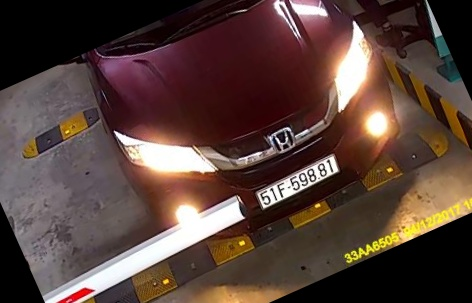plate: (248, 152, 344, 216)
